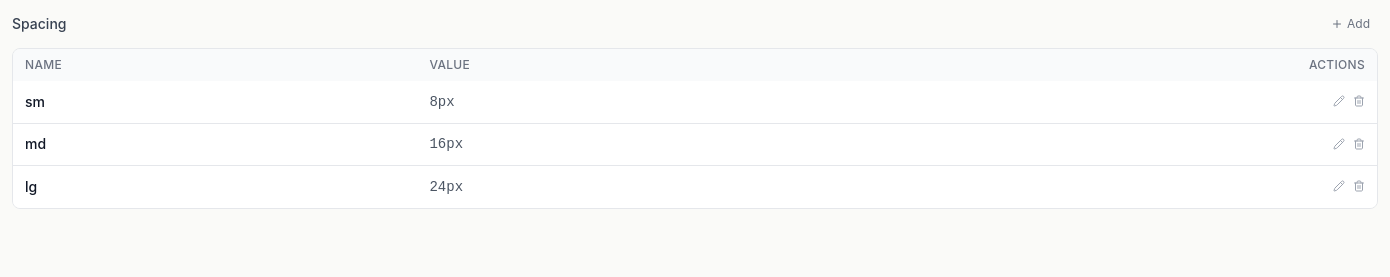
SimpleTokenTable › shows add row when Add button is clicked
Click the button "Add": (1350, 24) [1323,12,1378,36]
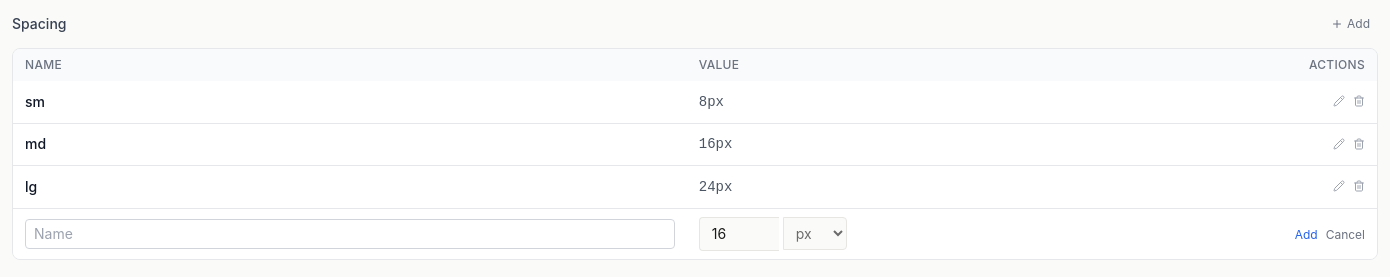
Result: the field with placeholder "Name" is shown at [25,219,675,249]
